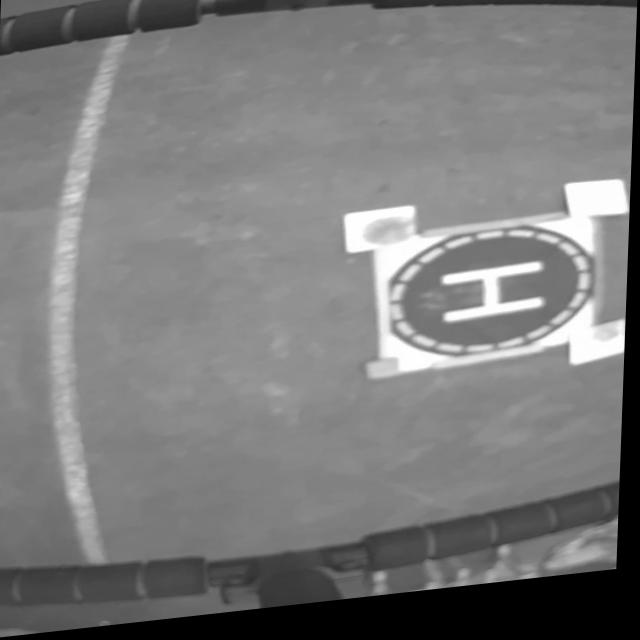Helipad: (441, 273, 549, 337)
